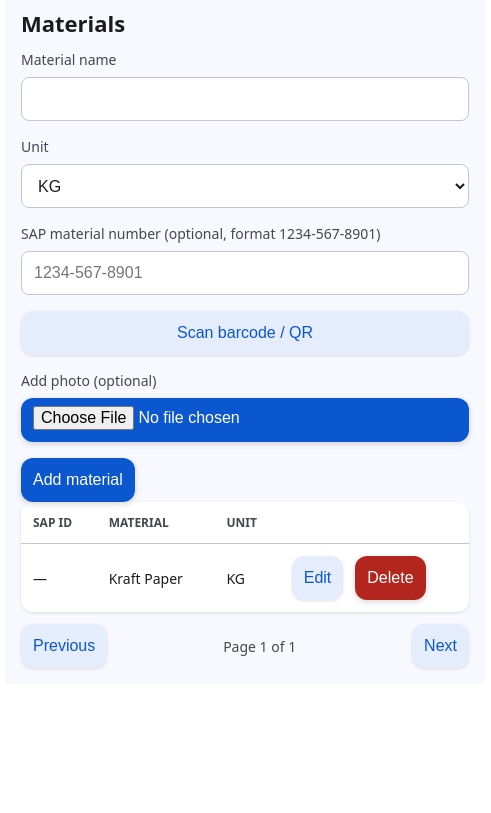
Test: MaterialsPage › deletes the blocking inventory and the material when choosing "Delete everything"
The image size is (491, 813).
Expected: the text "Kraft Paper" is shown, [97, 544, 214, 612]
Step 1. Click the button "Delete" → point(390, 578), box [355, 556, 426, 600]
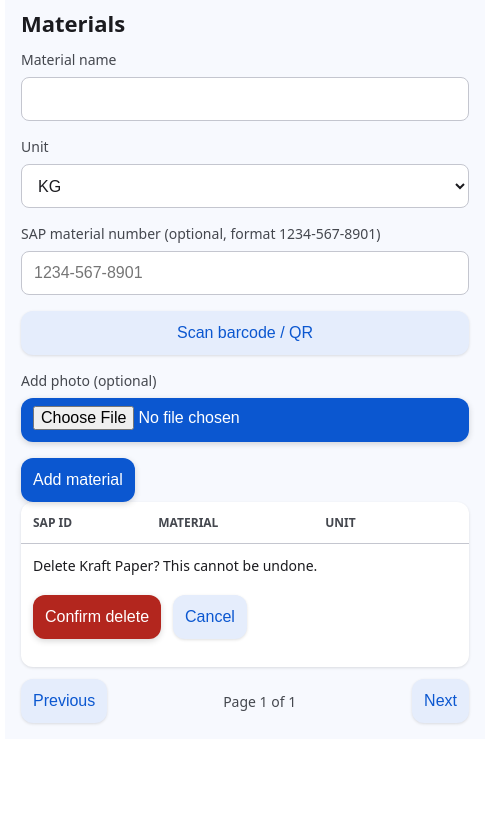
Step 2. Click the button "Confirm delete" → point(97, 617), box [33, 595, 161, 639]
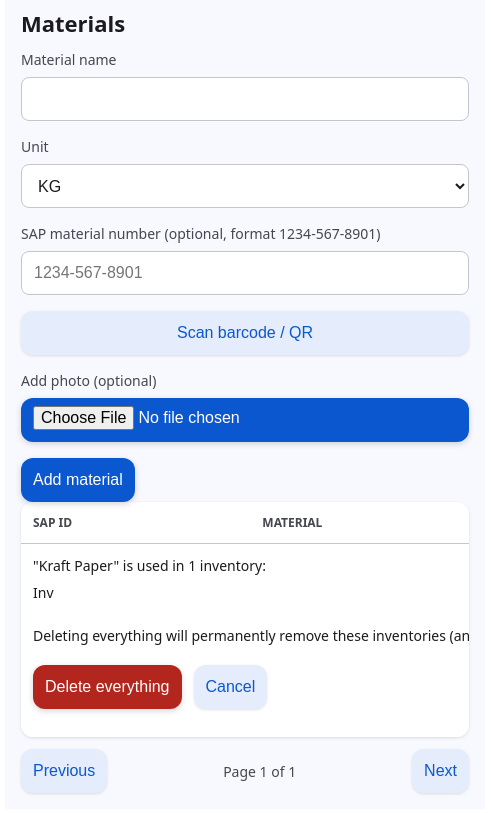
Step 3. Click the button "Delete everything" → point(107, 687), box [33, 665, 182, 709]
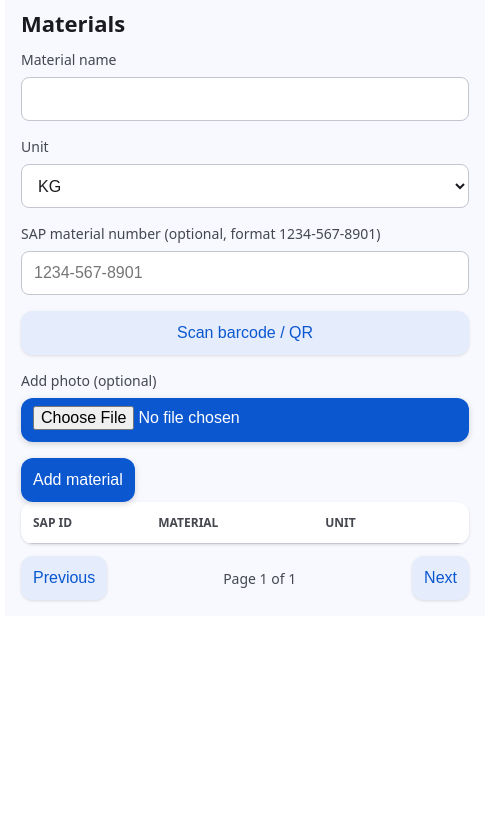
Expected: the text "Kraft Paper" is gone
